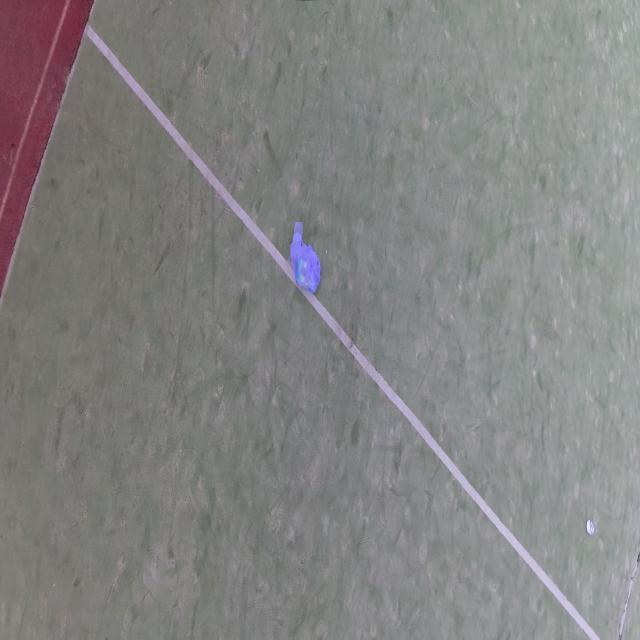rubbish: (290, 221, 321, 296), (586, 519, 595, 536)
